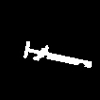double_crochet: (24, 42, 91, 67)
